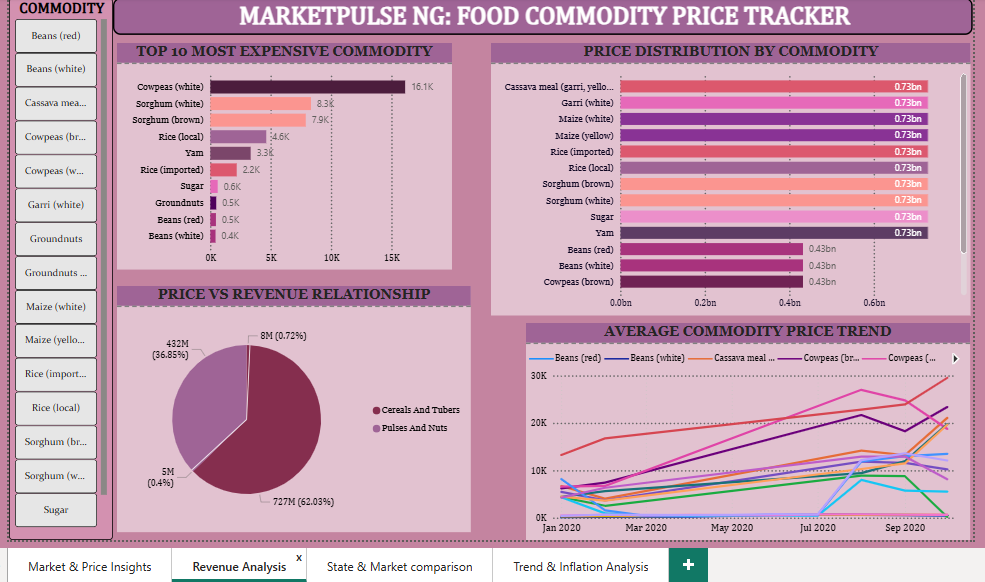

The dashboard page shown, as its layout file describes it:
{"tool":"powerbi","page":{"name":"Revenue Analysis","canvas":[1280,720],"ordinal":1},"visuals":[{"type":"barChart","title":"PRICE DISTRIBUTION BY COMMODITY","fields":{"Category":["Price.Commodity"],"Y":["Sum(Commodity.Revenue)"]},"box":[640,59.2,637.2,362],"z":0},{"type":"textbox","title":"MARKETPULSE NG:  FOOD COMMODITY PRICE TRACKER ","box":[138.2,0,1142.4,49.2],"z":1000},{"type":"pieChart","title":"PRICE VS REVENUE RELATIONSHIP","fields":{"Y":["Sum(Commodity.Price)","Sum(Commodity.Revenue)"],"Category":["Commodity.Category"]},"box":[143.5,382.6,470.3,326.8],"z":2000},{"type":"barChart","title":"TOP 10 MOST EXPENSIVE COMMODITY","fields":{"Category":["Commodity.Commodity"],"Y":["Commodity.Avg price bby commodity"]},"box":[143.1,59.2,444.6,301.4],"z":3000},{"type":"advancedSlicerVisual","title":"COMMODITY","fields":{"Values":["Commodity.Commodity"]},"box":[0,0,138.2,720],"z":4000},{"type":"lineChart","title":"AVERAGE COMMODITY PRICE TREND","fields":{"Category":["Price.Date.Variation.Date Hierarchy.Year","Price.Date.Variation.Date Hierarchy.Month"],"Y":["Price.Average price"],"Series":["Price.Commodity"]},"box":[687,431.7,589.6,288.9],"z":5000}]}

Visuals, with their boxes on the page's 1280x720 design canvas (x1, y1, x2, y2). These are canvas units, not pixel positions in the 985x582 screenshot, which may show the page scaled, cropped or inside an application window:
"PRICE DISTRIBUTION BY COMMODITY" barChart: [640, 59, 1277, 421]
"MARKETPULSE NG:  FOOD COMMODITY PRICE TRACKER " textbox: [138, 0, 1281, 49]
"PRICE VS REVENUE RELATIONSHIP" pieChart: [144, 383, 614, 709]
"TOP 10 MOST EXPENSIVE COMMODITY" barChart: [143, 59, 588, 361]
"COMMODITY" advancedSlicerVisual: [0, 0, 138, 720]
"AVERAGE COMMODITY PRICE TREND" lineChart: [687, 432, 1277, 721]
